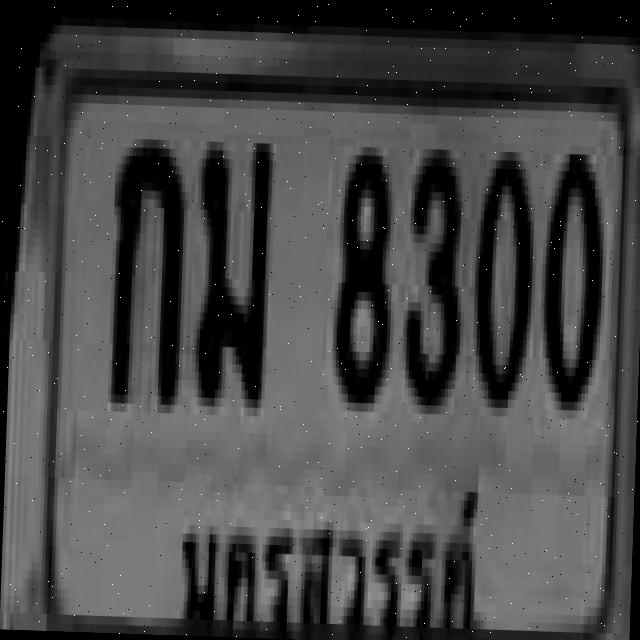0: (468, 142, 533, 400), (538, 144, 603, 402)
10GorGai: (104, 130, 183, 396)
3: (401, 140, 463, 398)
42MorMa: (191, 133, 270, 400)
8: (330, 137, 394, 395)
NakhonSawan: (166, 464, 488, 640)
